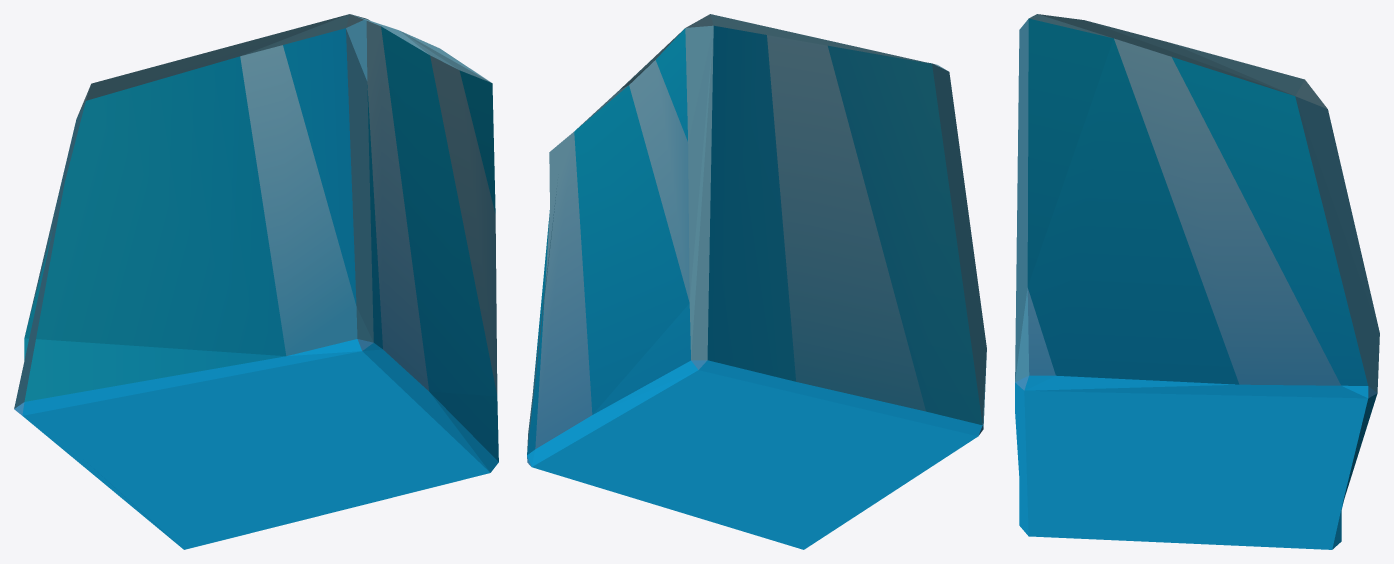
File: iceCubeInner.glb
3 renders of one model, left to right at view 1: azimuth 30°, elevation 25°; view 2: azimuth 150°, elevation 25°; view 3: azimuth 270°, elevation 25°, orthographic. The views are drawn at different scales.
Visible parts, largest first — view 1: iceCubeInner; view 2: iceCubeInner; view 3: iceCubeInner.
Boxes of the visible parts, x1,y1,x2,y2 form: iceCubeInner: [14, 14, 498, 549]; iceCubeInner: [527, 14, 986, 549]; iceCubeInner: [1015, 14, 1379, 549].
Bounding box in the file's own units: 1.82 × 1.99 × 1.67.
